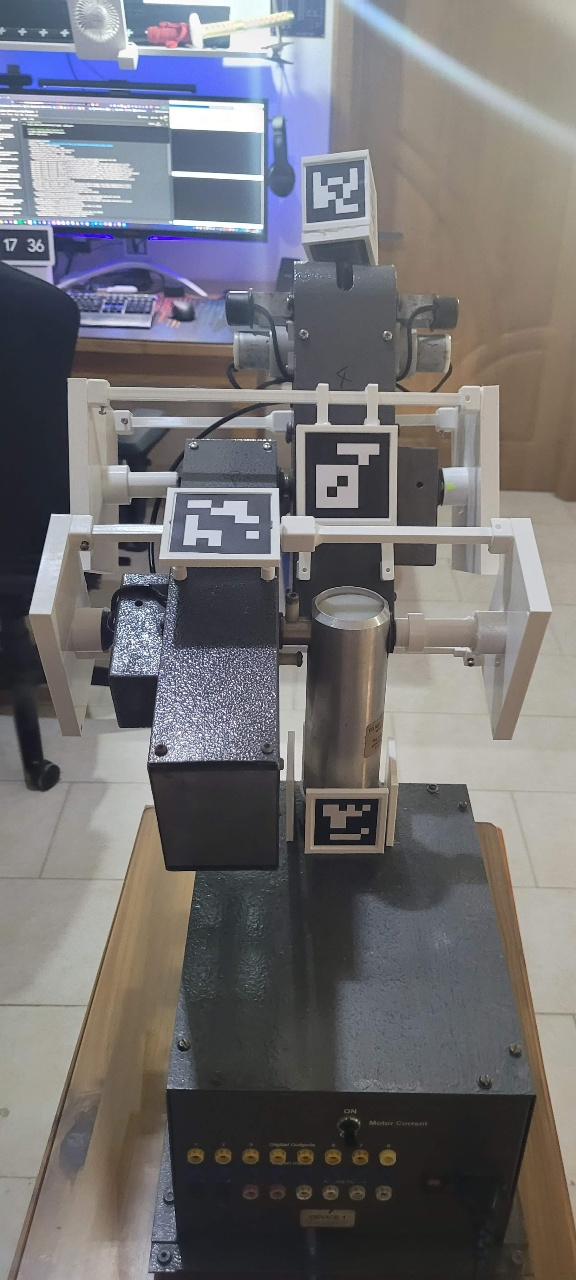Robot: (26, 146, 555, 875)
